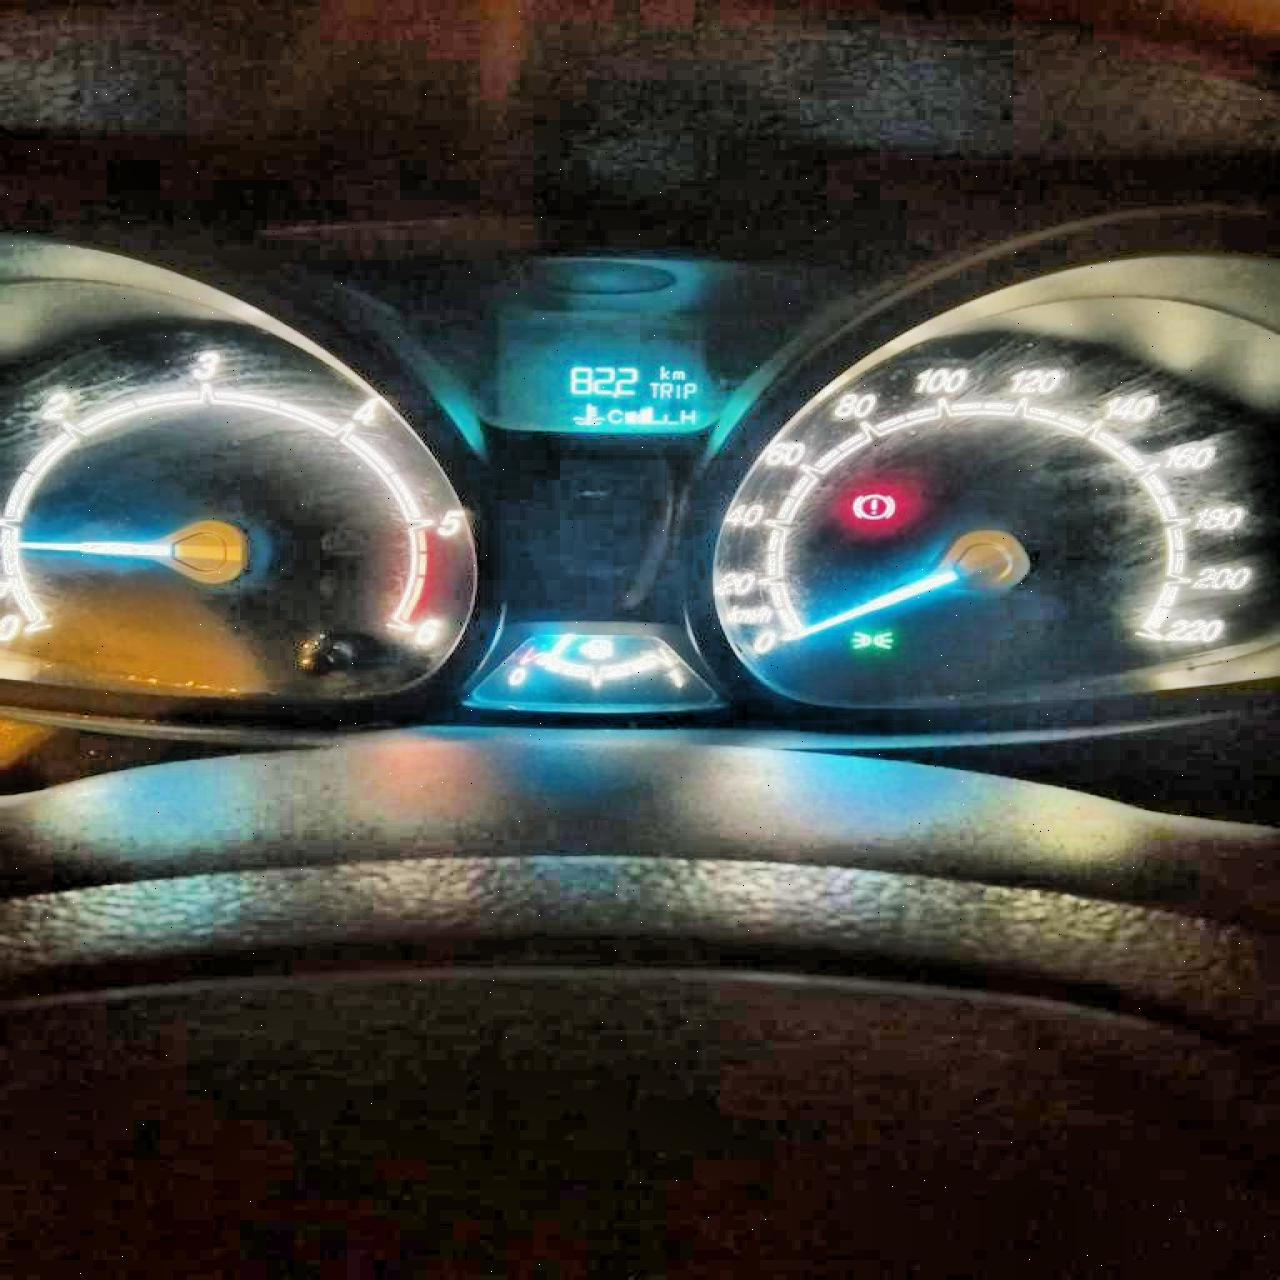-: (612, 392, 617, 399)
2: (614, 365, 639, 395), (592, 365, 613, 395)
8: (566, 365, 592, 395)
X: (676, 406, 695, 425), (605, 408, 624, 423), (645, 380, 659, 397), (682, 381, 695, 399), (659, 380, 672, 397), (670, 368, 687, 380), (656, 365, 668, 380), (672, 382, 681, 399)
odometer: (478, 346, 727, 440)
